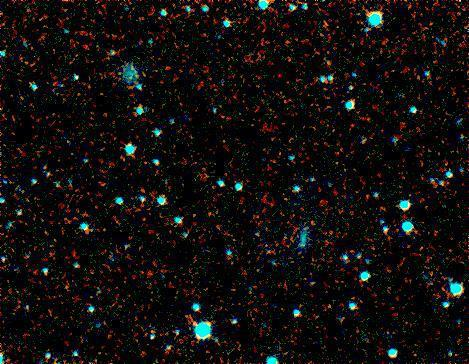star: (181, 307, 211, 337)
